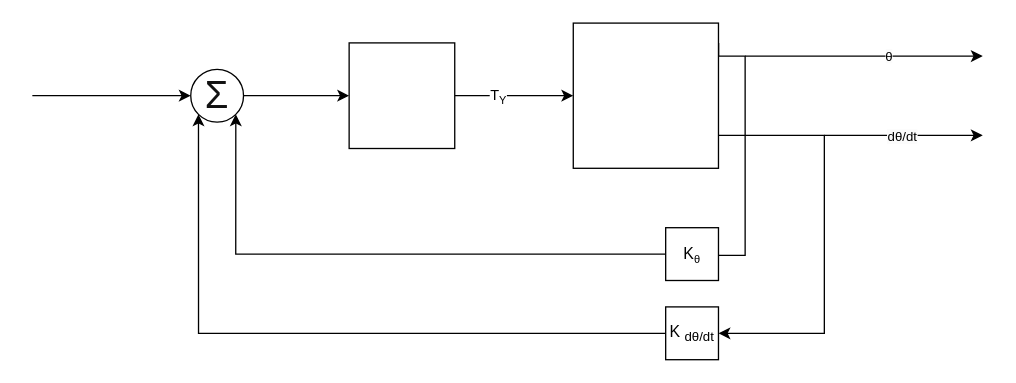
The diagram is 1016 pixels wide and 383 high, and some of its shapes have lost their labels. The centre of each missing label's shape, as x and y in pixels:
"Dinâmica do CubeSat" belongs at (x=645, y=95).
"RDR Y" belongs at (x=401, y=95).
